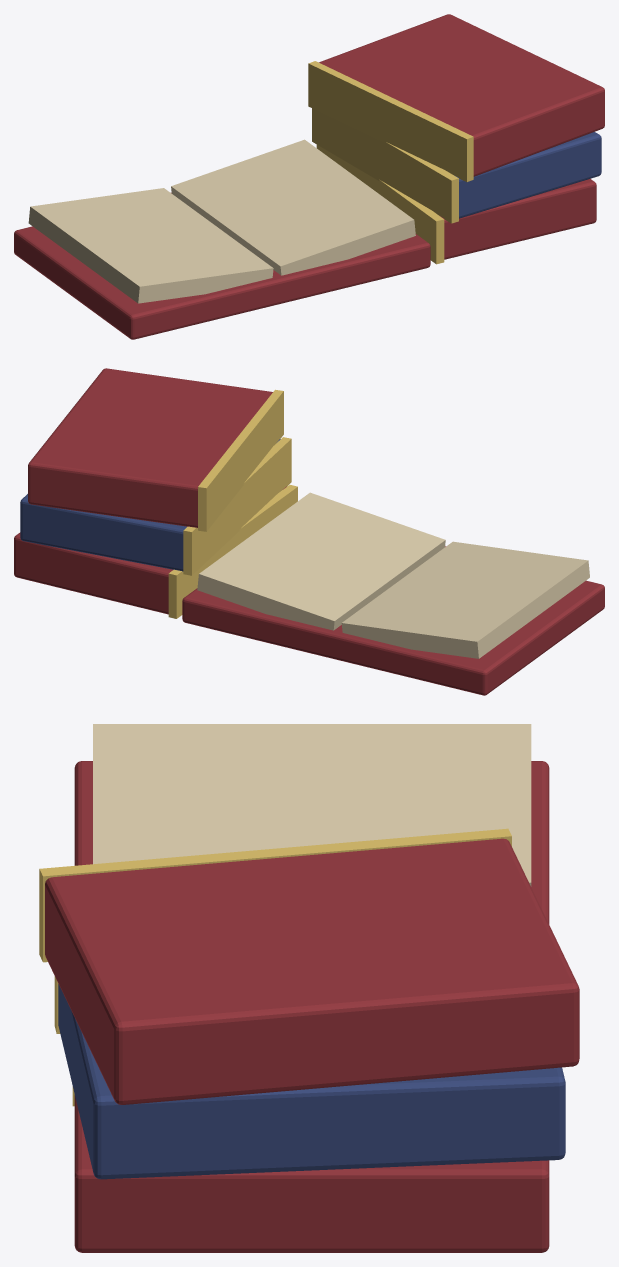
File: book_stack_open_and_stack.glb
3 views of the same model, one above another, from view 1: azimuth 30°, elevation 25°; view 2: azimuth 150°, elevation 25°; view 3: azimuth 270°, elevation 25° (orthographic). The views are drawn at different scales.
Parts seen in each view (by area): view 1: GD_book_stack_open_and_stack__m0, GD_book_stack_open_and_stack__m1, GD_book_stack_open_and_stack__m2, GD_book_stack_open_and_stack__m3; view 2: GD_book_stack_open_and_stack__m0, GD_book_stack_open_and_stack__m1, GD_book_stack_open_and_stack__m2, GD_book_stack_open_and_stack__m3; view 3: GD_book_stack_open_and_stack__m0, GD_book_stack_open_and_stack__m1, GD_book_stack_open_and_stack__m3, GD_book_stack_open_and_stack__m2.
Part boxes in pixels (x1,y1,x2,y2): GD_book_stack_open_and_stack__m0: (14,14,604,339); GD_book_stack_open_and_stack__m1: (28,139,415,303); GD_book_stack_open_and_stack__m2: (308,61,473,264); GD_book_stack_open_and_stack__m3: (454,132,601,218); GD_book_stack_open_and_stack__m0: (14,368,604,695); GD_book_stack_open_and_stack__m1: (197,492,589,658); GD_book_stack_open_and_stack__m2: (168,389,297,618); GD_book_stack_open_and_stack__m3: (20,439,280,571); GD_book_stack_open_and_stack__m0: (45,761,579,1252); GD_book_stack_open_and_stack__m1: (93,724,531,886); GD_book_stack_open_and_stack__m3: (58,984,565,1179); GD_book_stack_open_and_stack__m2: (39,828,511,1106).
Size of the model in its own units: 0.613 by 0.156 by 0.2957.
